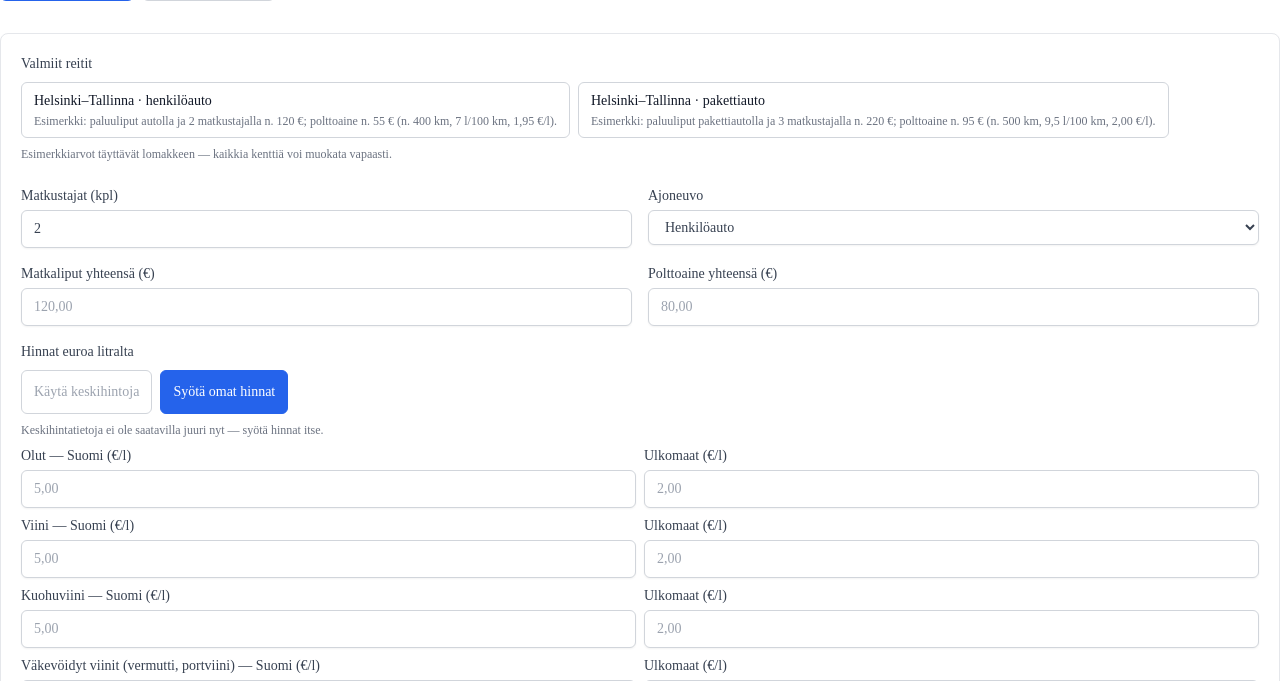
Test: TripView form pass (task 4.7) › the reset affordance restores every input to its default
Note: Start from a preset (non-default values), then edit a field.
Click the button that starts with "Helsinki–Tallinna · henkilöauto".
click(123, 100)  # box [21, 82, 570, 138]
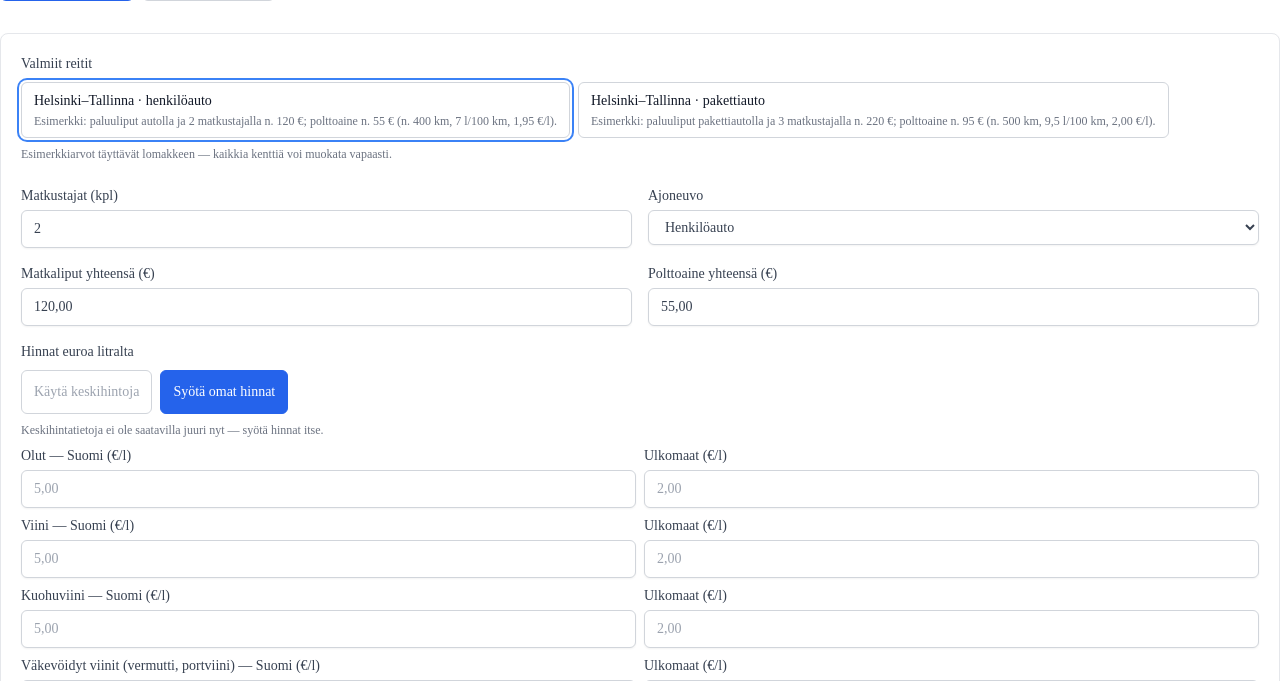
Type "99,00" into the field labelled "Matkaliput yhteensä (€)".
click(326, 307); type("99,00")  # box [21, 288, 632, 326]
(page scrolled)
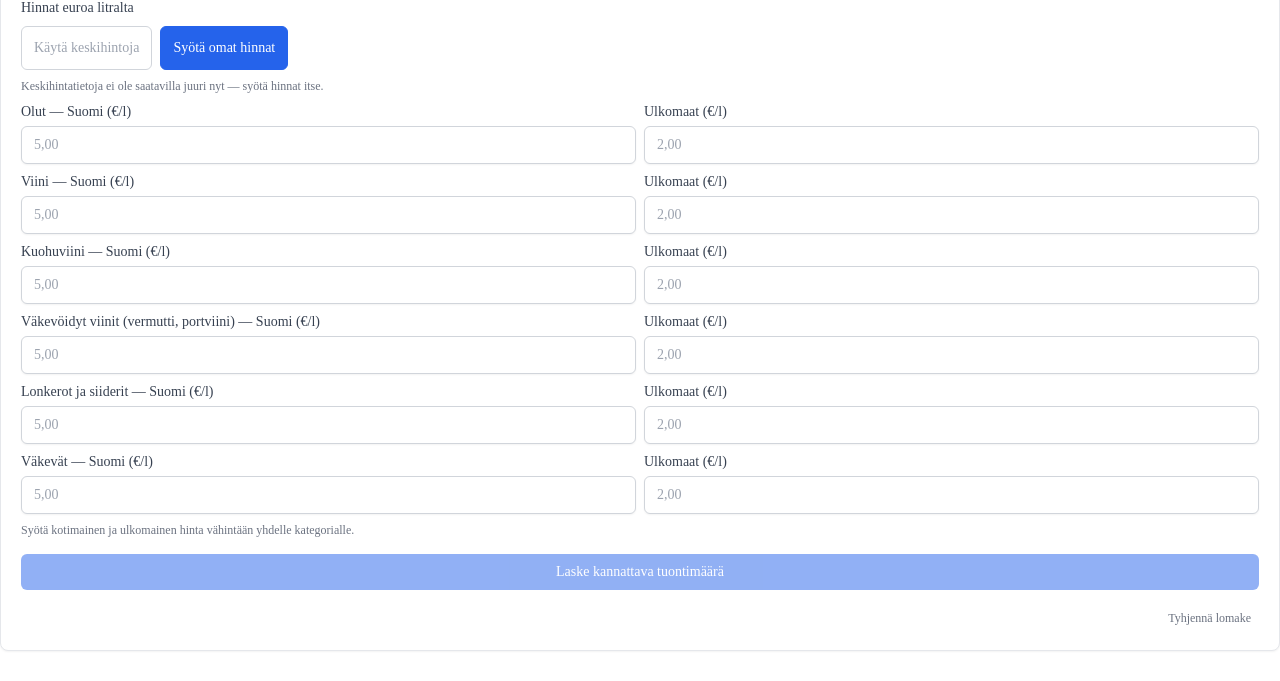
Click the button with test id "trip-reset".
click(1210, 618)  # box [1160, 606, 1259, 630]
(page scrolled)
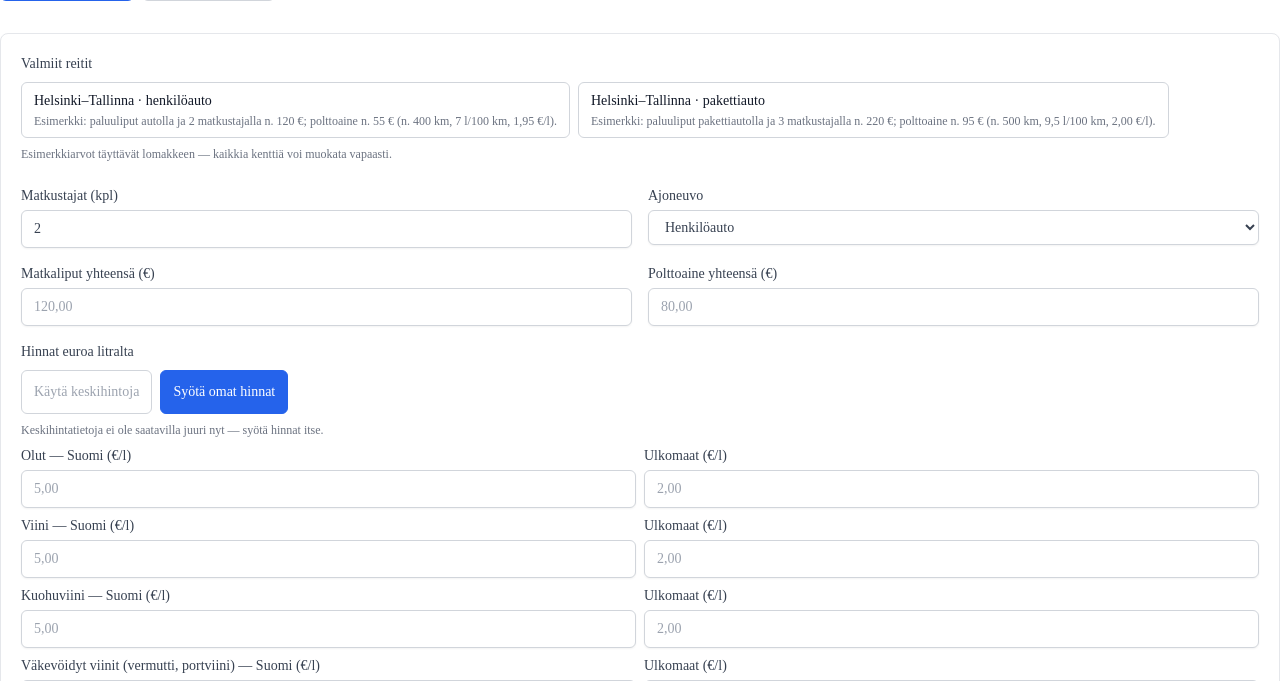
Expected: the number field labelled "Matkustajat (kpl)" holds "2", [21, 210, 632, 248]
Expected: the field labelled "Matkaliput yhteensä (€)" is empty, [21, 288, 632, 326]
Expected: the field labelled "Polttoaine yhteensä (€)" is empty, [648, 288, 1259, 326]
